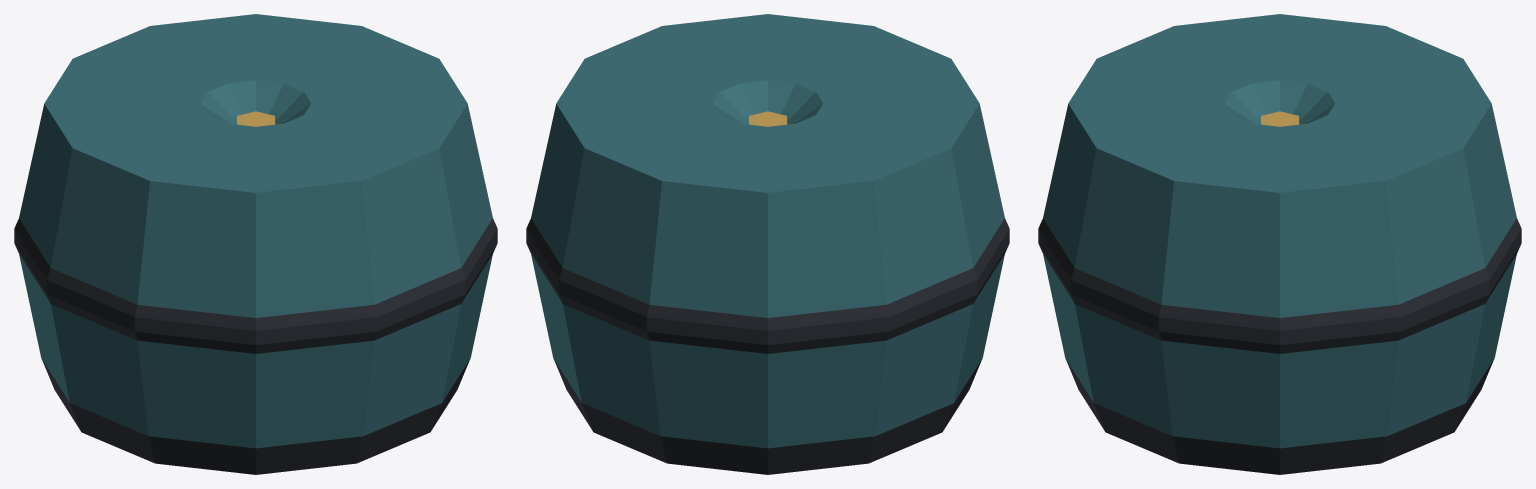
The model's file is FN_Stool_Pouffe.obj.
3 renders of one model, left to right at view 1: azimuth 30°, elevation 25°; view 2: azimuth 150°, elevation 25°; view 3: azimuth 270°, elevation 25°, orthographic.
Parts seen in each view (by area): view 1: FN_Stool_Pouffe; view 2: FN_Stool_Pouffe; view 3: FN_Stool_Pouffe.
Boxes of the visible parts, left/top/right/bottom form: FN_Stool_Pouffe: left=14, top=14, right=497, bottom=474; FN_Stool_Pouffe: left=526, top=14, right=1009, bottom=474; FN_Stool_Pouffe: left=1038, top=14, right=1521, bottom=474.
Size of the model in its own units: 0.612 by 0.4 by 0.612.
1 material, 1 textured.
